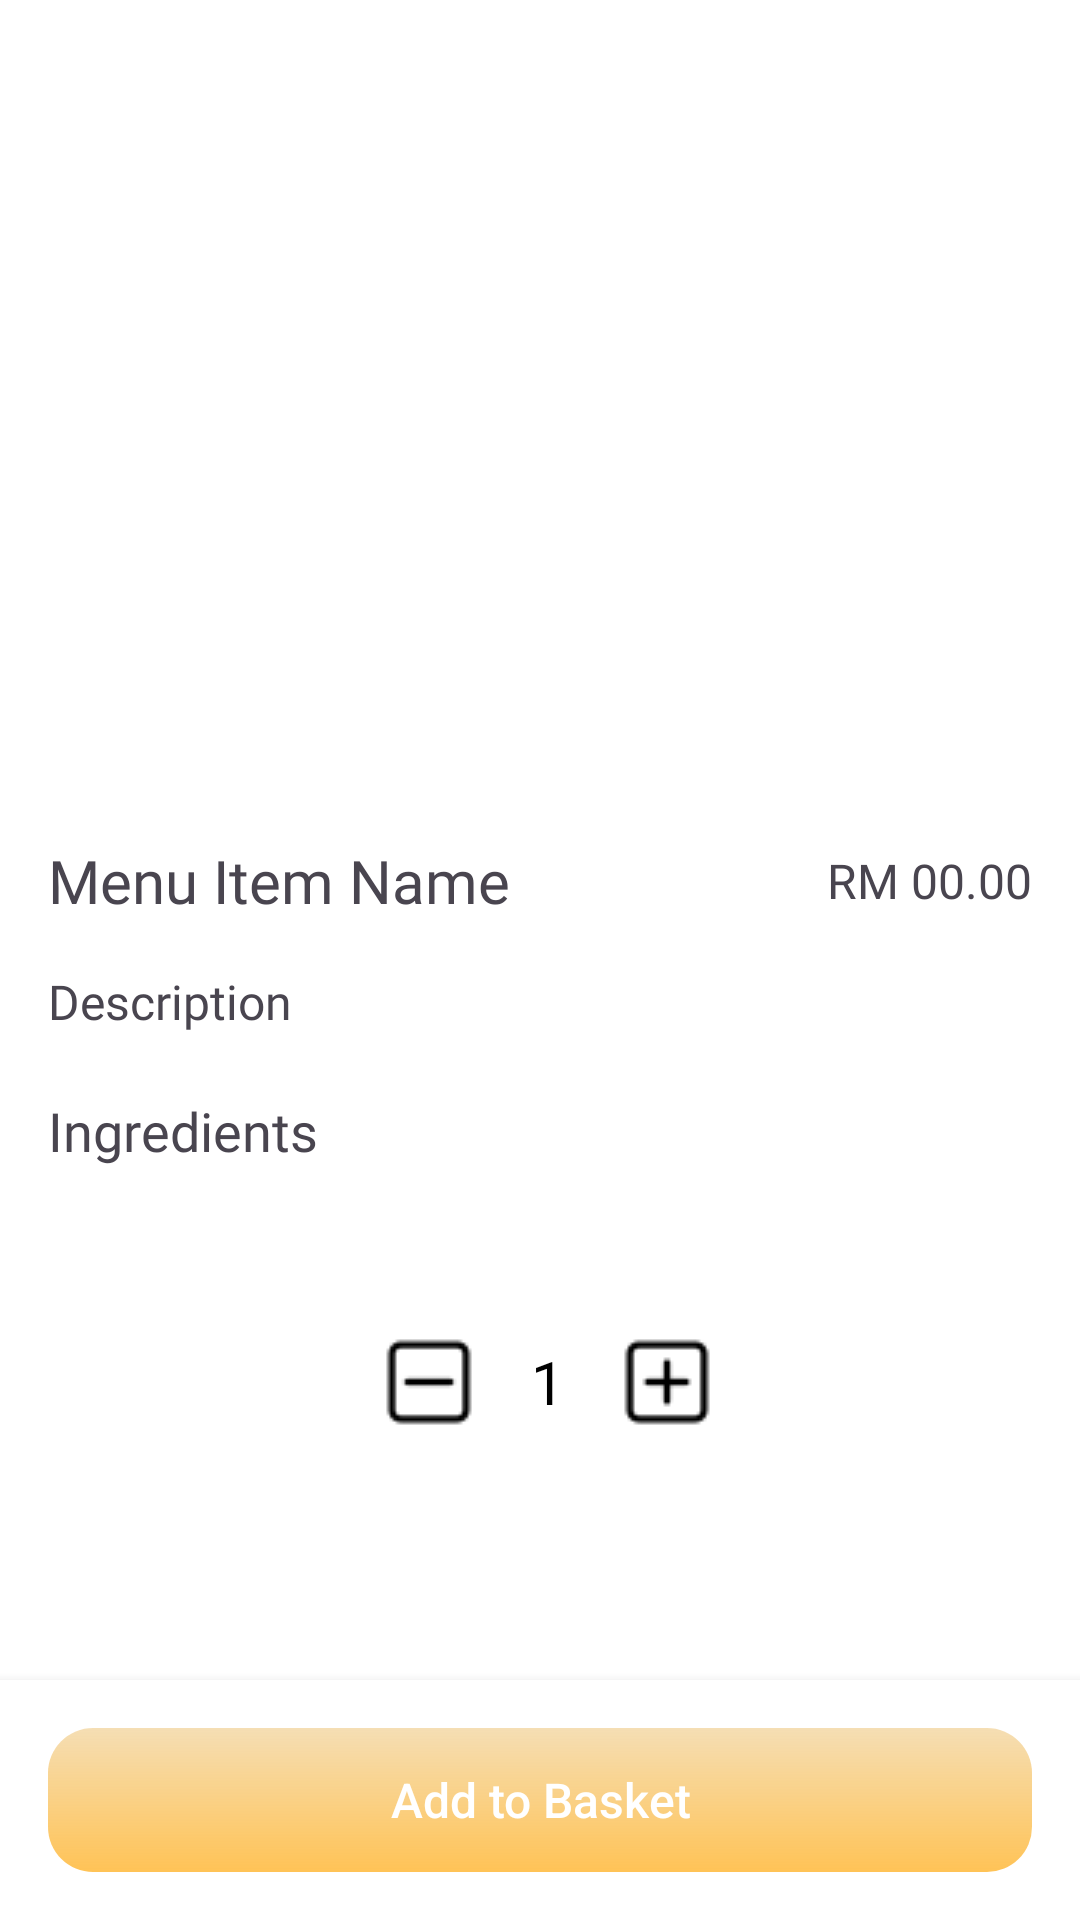

Icon bounding boxes for this 1080 x 1920 phone screenshot, format (x1, y1, x2, y2):
add: (624, 1339, 710, 1425)
minus: (386, 1339, 472, 1425)
